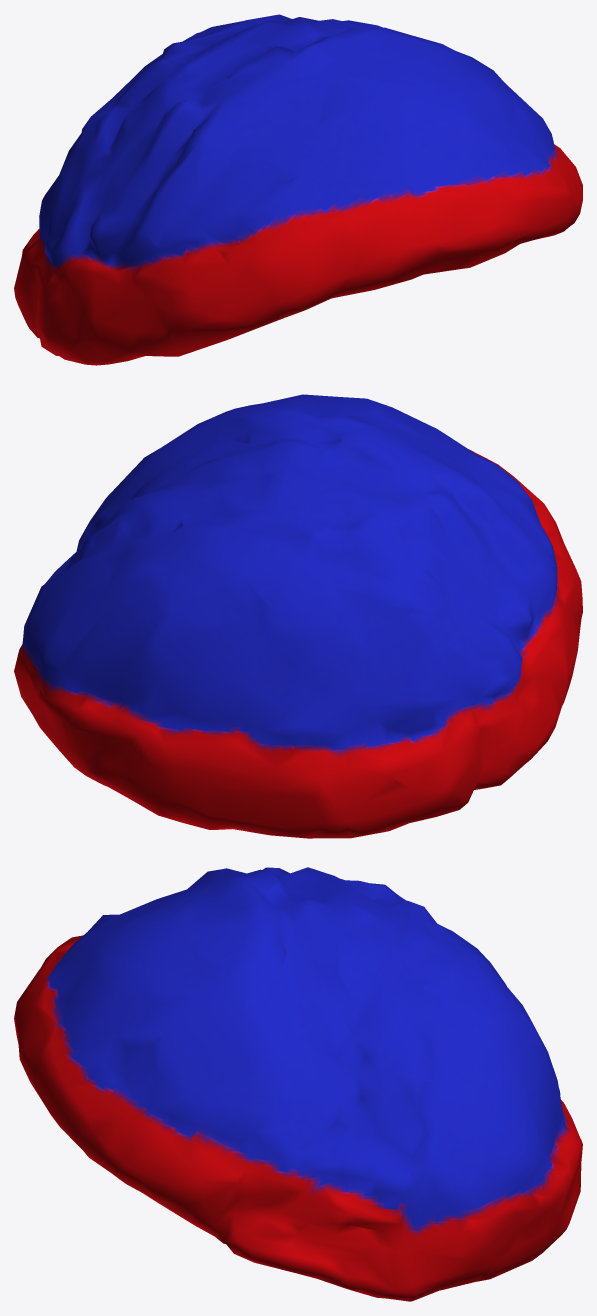
File: knit buffalo.glb
3 renders of one model, top to bottom at view 1: azimuth 30°, elevation 25°; view 2: azimuth 150°, elevation 25°; view 3: azimuth 270°, elevation 25°, orthographic. The views are drawn at different scales.
Parts seen in each view (by area): view 1: hat_knit_buffalo.001; view 2: hat_knit_buffalo.001; view 3: hat_knit_buffalo.001.
Part boxes in pixels (x1,y1,x2,y2): hat_knit_buffalo.001: (14, 14, 582, 365); hat_knit_buffalo.001: (14, 394, 582, 838); hat_knit_buffalo.001: (14, 867, 582, 1301).
Size of the model in its own units: 0.3702 by 0.23 by 0.3545.
Materials: 1 (1 with a texture image).
